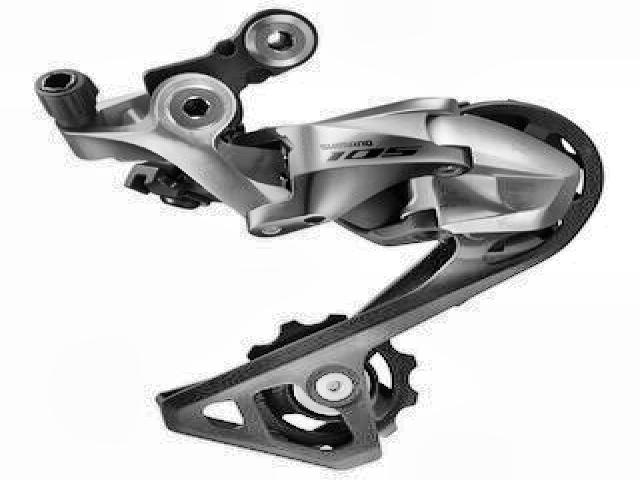rear_derailleur: (33, 7, 606, 470)
